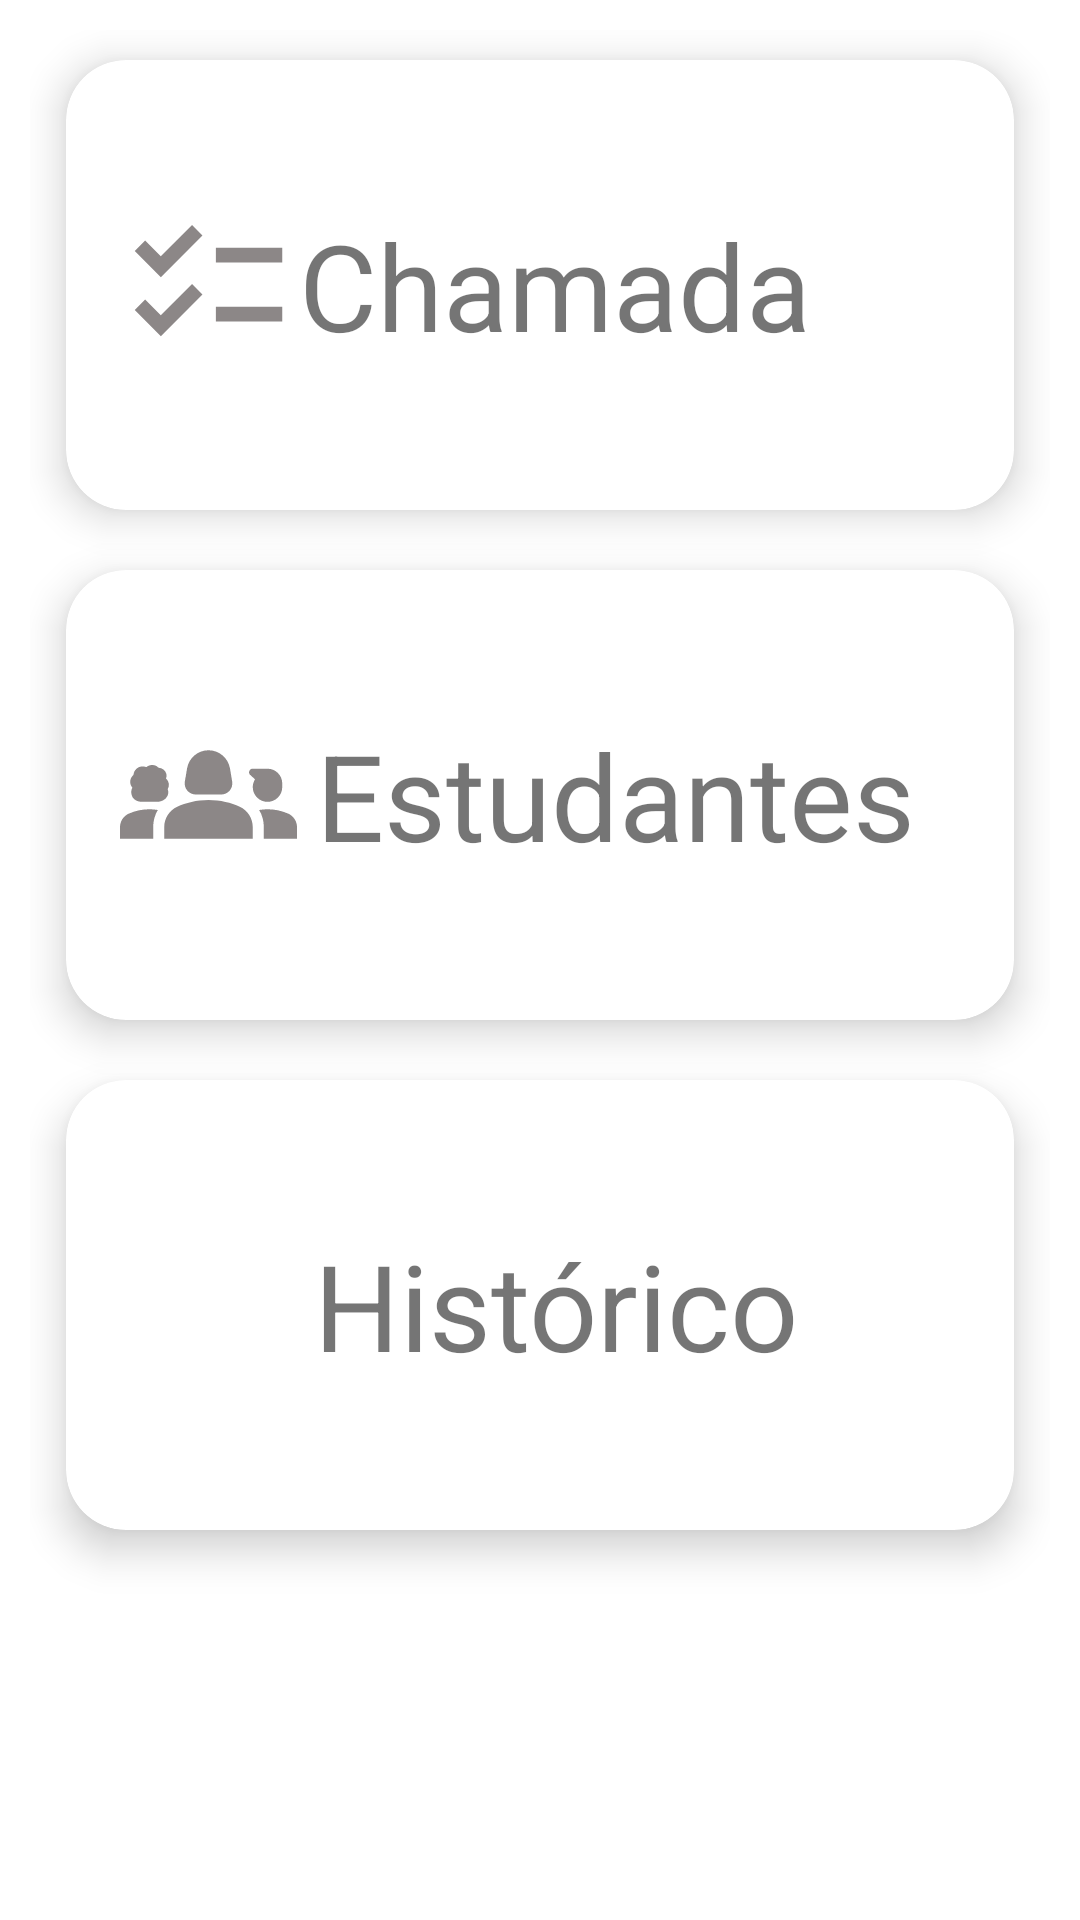

Locate icon controls on the screen. Image size 1080px x 1920px, boxes as box(x1, y1, x2, y2).
attendance: box(135, 225, 283, 336)
students: box(120, 750, 297, 839)
